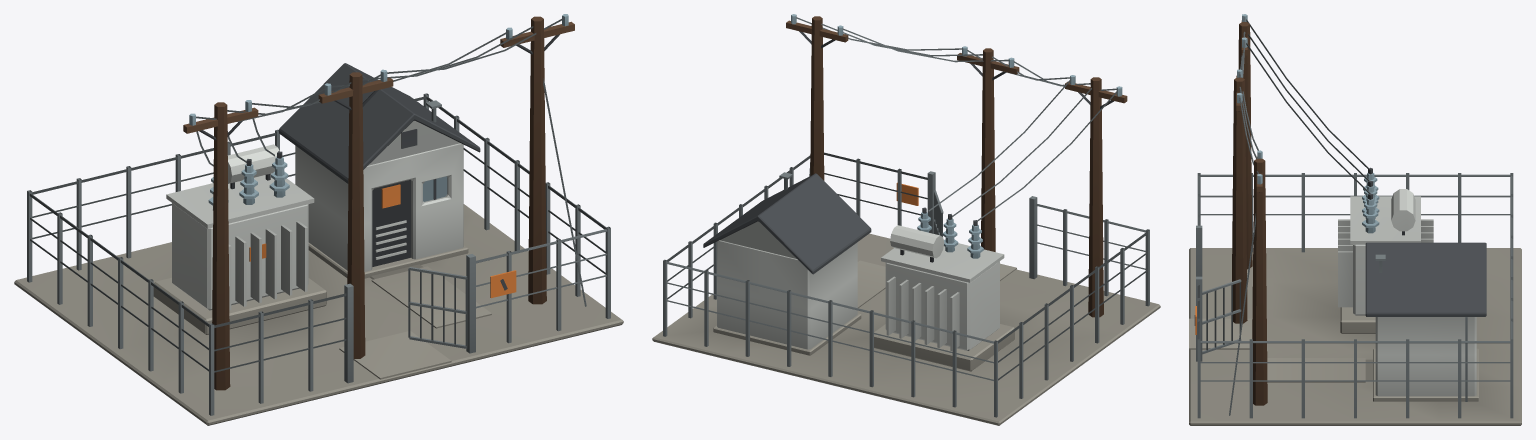
Rendered from village-substation.glb.
3 renders of one model, left to right at view 1: azimuth 30°, elevation 25°; view 2: azimuth 150°, elevation 25°; view 3: azimuth 270°, elevation 25°, orthographic. The views are drawn at different scales.
Parts seen in each view (by area): view 1: Substation; view 2: Substation; view 3: Substation.
Boxes of the visible parts, bbox=[...] form: Substation: bbox=[14, 14, 623, 425]; Substation: bbox=[652, 14, 1160, 425]; Substation: bbox=[1189, 14, 1521, 425].
Bounding box in the file's own units: 8.2 × 5.4 × 6.6.
